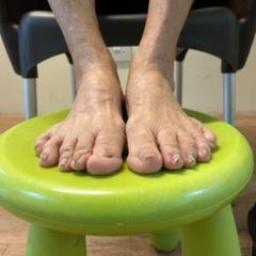Front View -Both Feet-: (24, 35, 226, 204)
